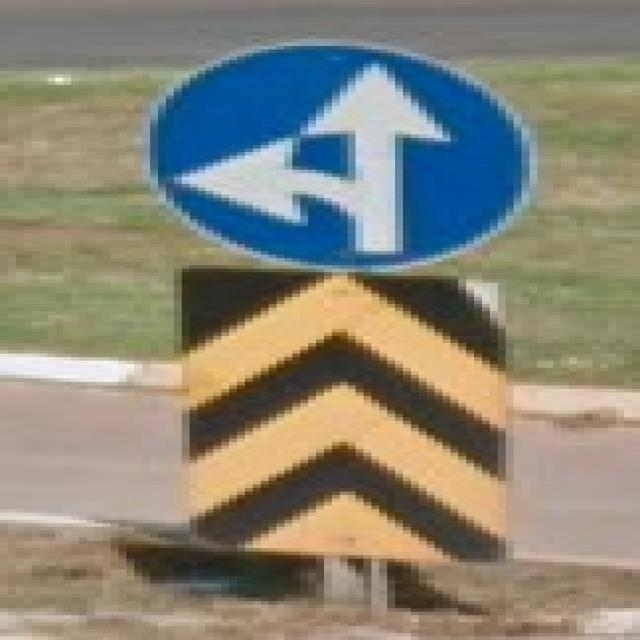Straight or Left: (143, 44, 523, 274)
